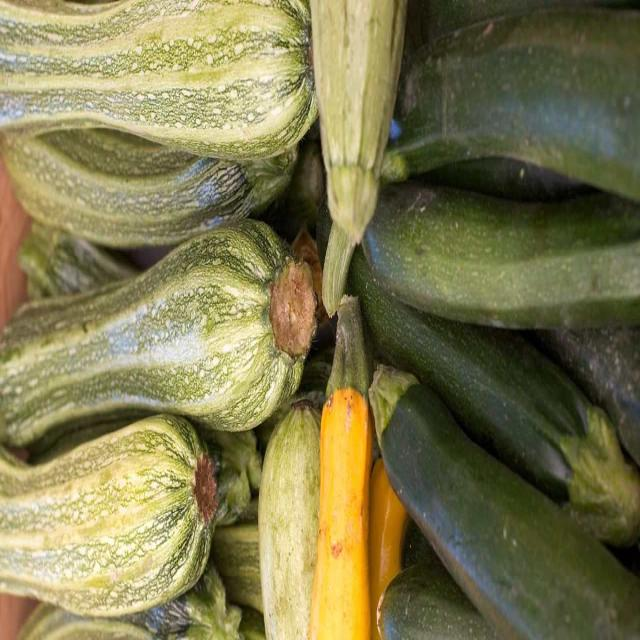Zucchini: (375, 188, 640, 345)
